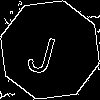J: (25, 25, 61, 76)
